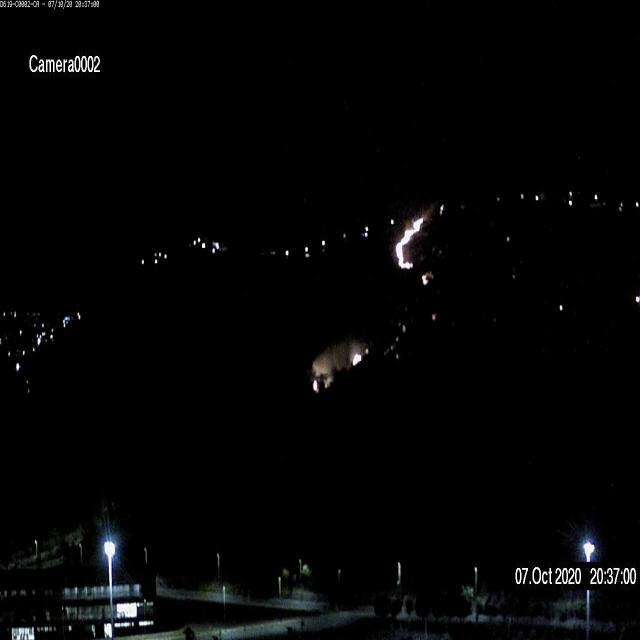Fire: (393, 214, 427, 270), (349, 344, 368, 366)
Smoke: (312, 334, 368, 391)
